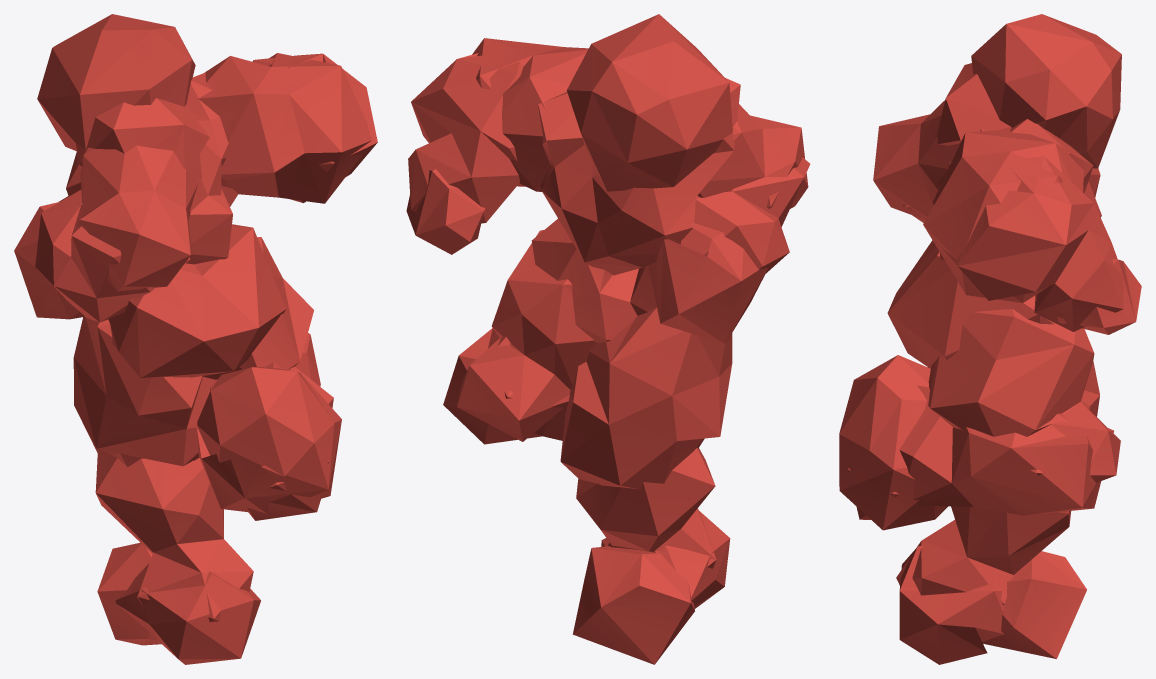
Rendered from dance_frames0350.obj.
3 renders of one model, left to right at view 1: azimuth 30°, elevation 25°; view 2: azimuth 150°, elevation 25°; view 3: azimuth 270°, elevation 25°, orthographic.
Parts seen in each view (by area): view 1: Beta_Surface; view 2: Beta_Surface; view 3: Beta_Surface.
Part boxes in pixels (x1=…): Beta_Surface: x1=14, y1=14, x2=377, y2=664; Beta_Surface: x1=406, y1=14, x2=810, y2=664; Beta_Surface: x1=839, y1=14, x2=1141, y2=664.
Size of the model in its own units: 1.07 by 1.92 by 0.8466.
